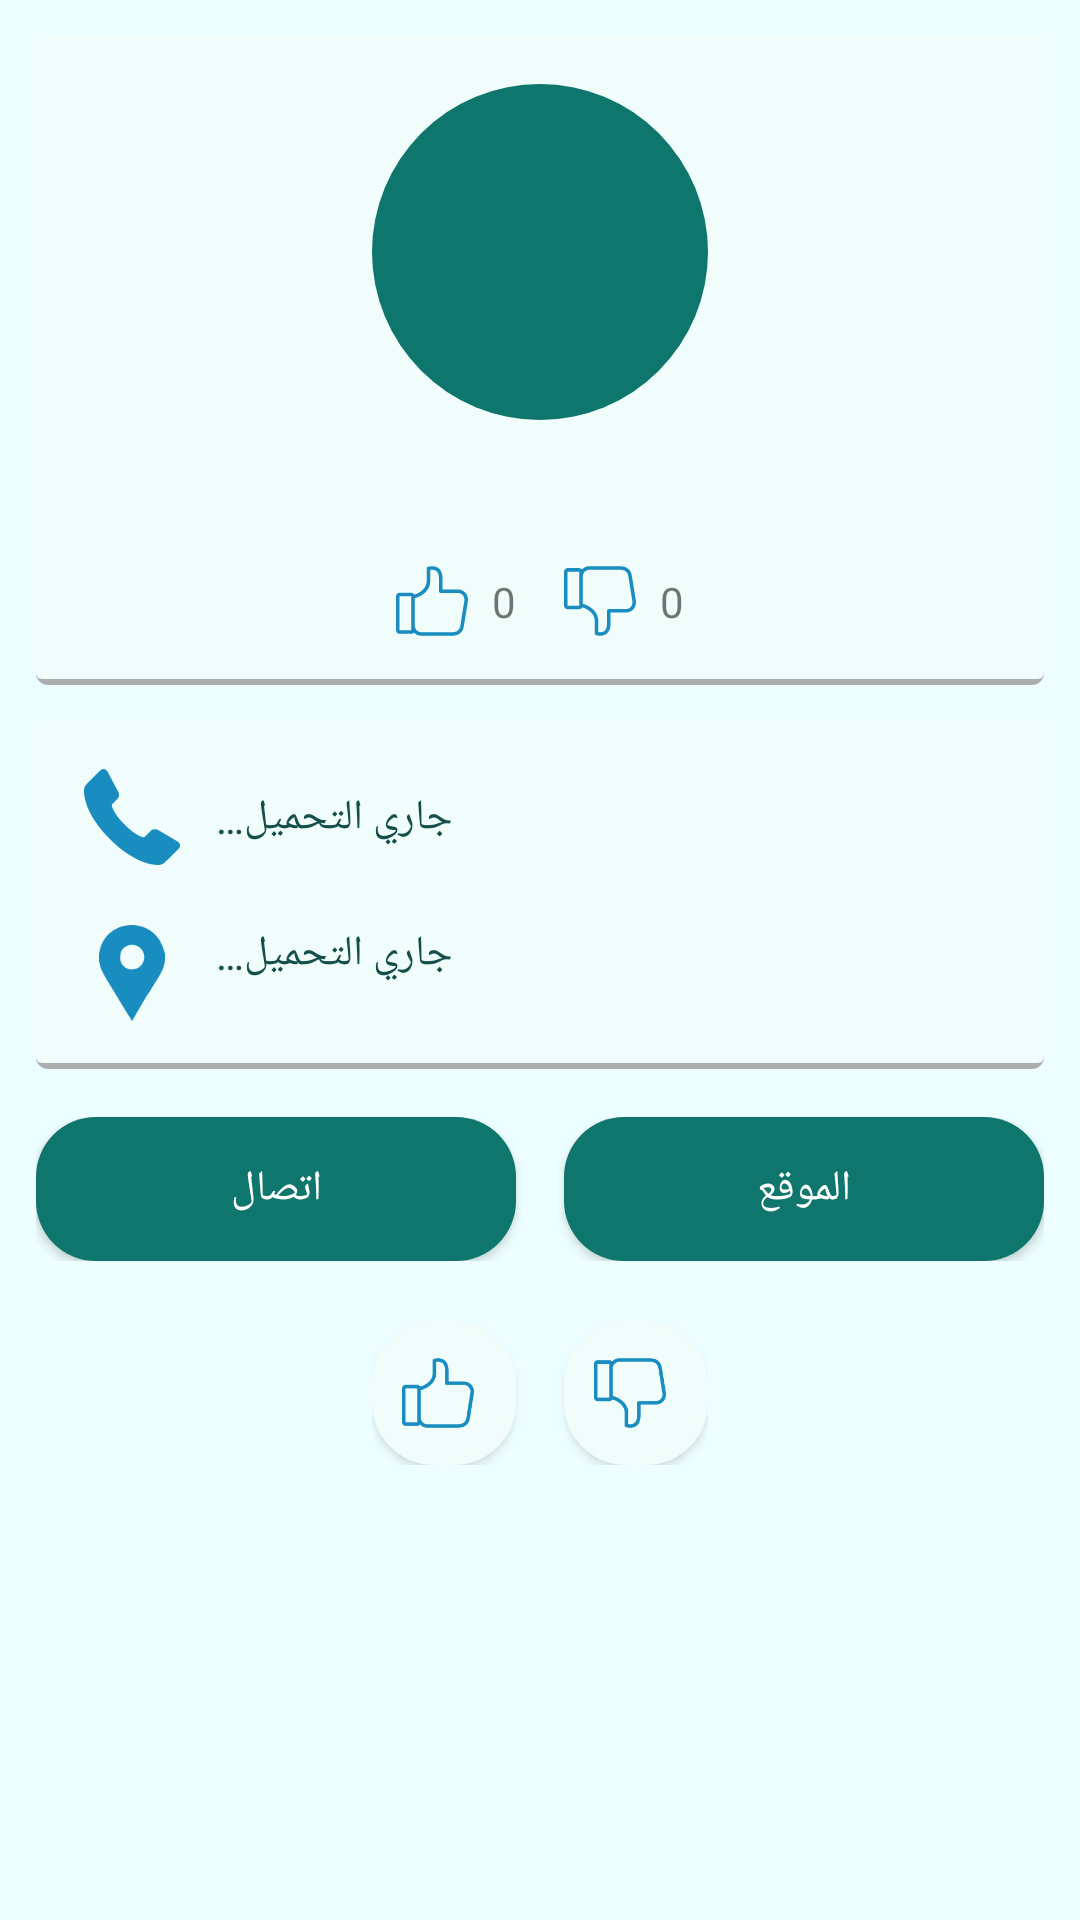

Screen size 1080px x 1920px. Icon name, then its box in pixels as (x1, y1, x2, y2):
dislike: (564, 566, 636, 636)
like: (396, 566, 468, 636)
location: (99, 925, 165, 1021)
phone: (84, 769, 180, 865)
